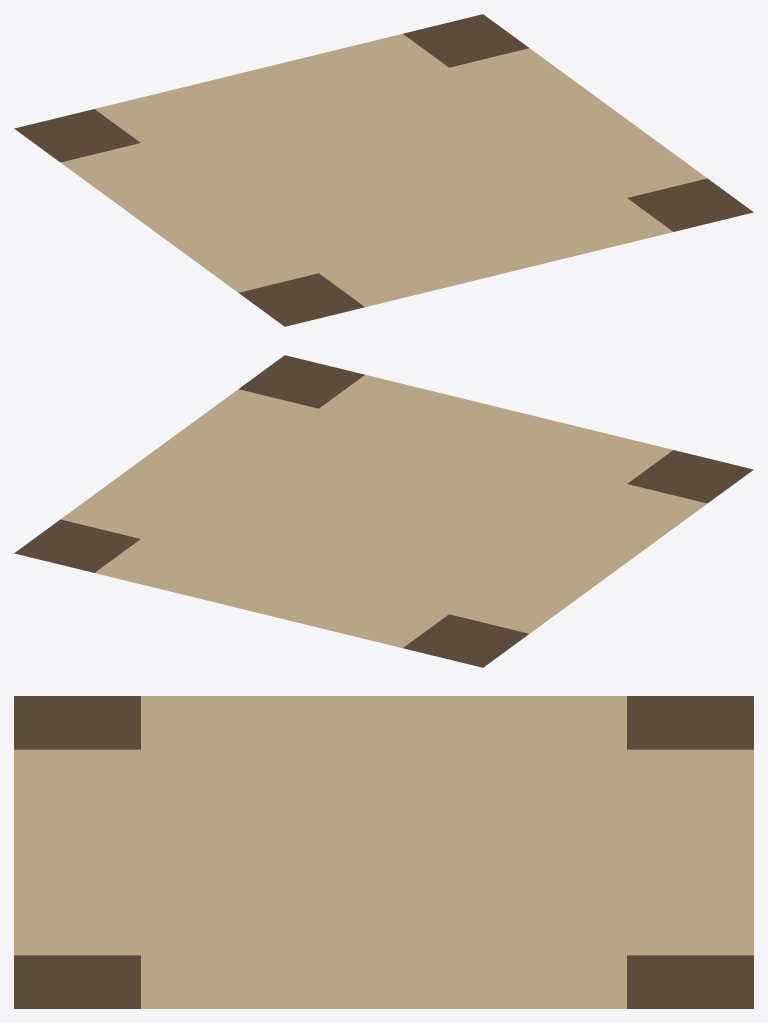
File: M_FloorCrossT700x700Beige100-4_3.fbx
3 views of the same model, one above another, from view 1: azimuth 30°, elevation 25°; view 2: azimuth 150°, elevation 25°; view 3: azimuth 270°, elevation 25° (orthographic). The views are drawn at different scales.
Parts seen in each view (by area): view 1: M_FloorCrossT700x700Beige100-4_3; view 2: M_FloorCrossT700x700Beige100-4_3; view 3: M_FloorCrossT700x700Beige100-4_3.
Boxes of the visible parts, <box> form: M_FloorCrossT700x700Beige100-4_3: <box>14,14,753,326</box>; M_FloorCrossT700x700Beige100-4_3: <box>14,355,753,667</box>; M_FloorCrossT700x700Beige100-4_3: <box>14,696,753,1008</box>.
Bounding box in the file's own units: 700 × 700 × 6.53e-22.
